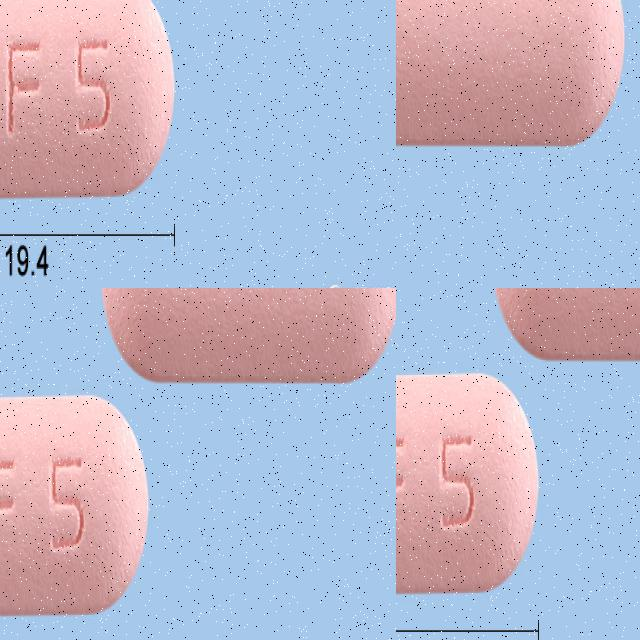Levocacin: (396, 0, 603, 288)
Levofroxin: (29, 20, 188, 288)
Myungmoon Cefixime Cap: (177, 337, 342, 452), (0, 335, 48, 450)
Vacrax Tab: (396, 373, 540, 593)
